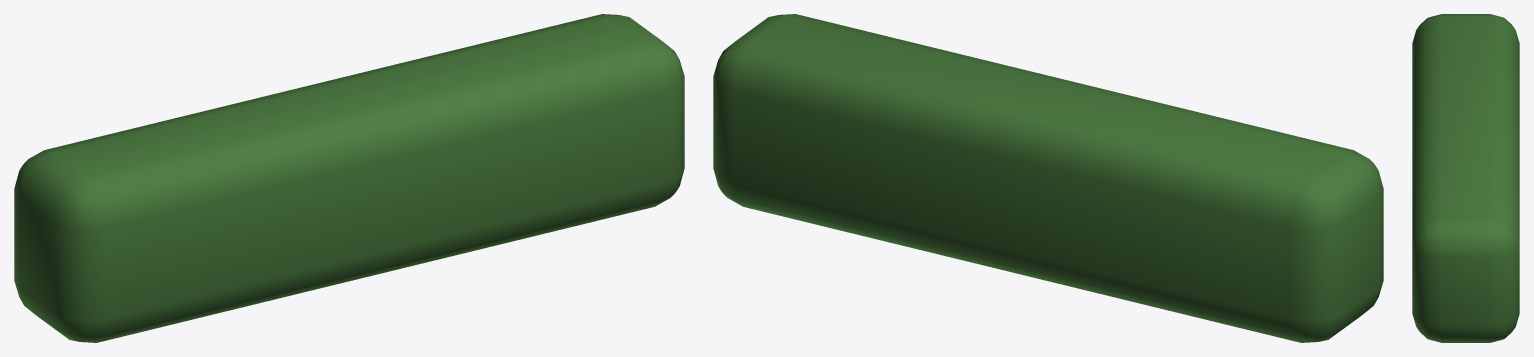
File: hedge.glb
The picture shows the model from 3 angles, left to right: view 1: azimuth 30°, elevation 25°; view 2: azimuth 150°, elevation 25°; view 3: azimuth 270°, elevation 25°; orthographic projection. The views are drawn at different scales.
Parts seen in each view (by area): view 1: Clipped garden hedge; view 2: Clipped garden hedge; view 3: Clipped garden hedge.
Part boxes in pixels (x1=…): Clipped garden hedge: x1=14, y1=14, x2=684, y2=342; Clipped garden hedge: x1=713, y1=14, x2=1383, y2=342; Clipped garden hedge: x1=1412, y1=14, x2=1519, y2=342.
Size of the model in its own units: 4 by 1 by 0.8.
